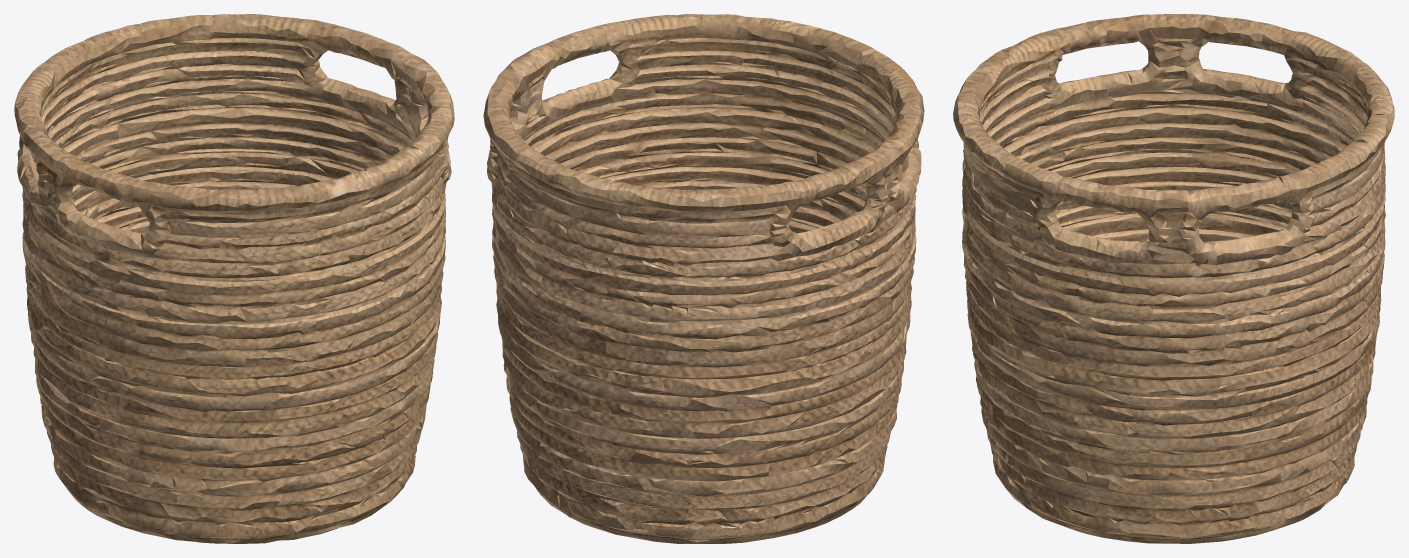
3 renders of one model, left to right at view 1: azimuth 30°, elevation 25°; view 2: azimuth 150°, elevation 25°; view 3: azimuth 270°, elevation 25°, orthographic.
Visible parts, largest first — view 1: Mesh_0; view 2: Mesh_0; view 3: Mesh_0.
Part boxes in pixels (<box>): Mesh_0: <box>14,14,454,543</box>; Mesh_0: <box>483,14,924,543</box>; Mesh_0: <box>953,14,1394,543</box>.
Size of the model in its own units: 0.45 by 0.42 by 0.45.
Materials: 1 (1 with a texture image).
